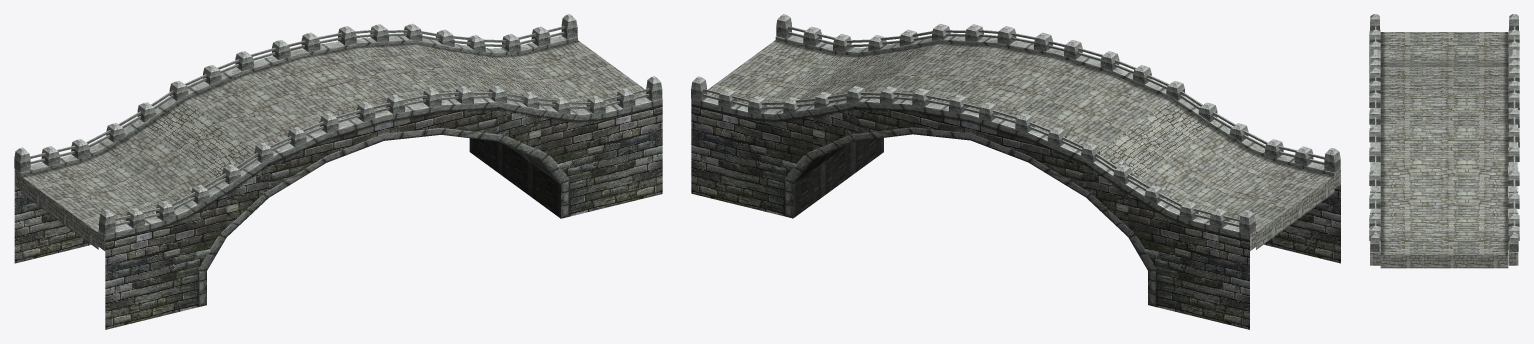
File: c1-024-10m-bridge.fbx
The picture shows the model from 3 angles, left to right: view 1: azimuth 30°, elevation 25°; view 2: azimuth 150°, elevation 25°; view 3: azimuth 270°, elevation 25°; orthographic projection. The views are drawn at different scales.
Parts seen in each view (by area): view 1: 024; view 2: 024; view 3: 024.
Part boxes in pixels (bbox=[...]): 024: bbox=[14, 14, 662, 329]; 024: bbox=[691, 14, 1340, 329]; 024: bbox=[1369, 14, 1519, 268].
Size of the model in its own units: 28.93 by 7.94 by 8.24.
